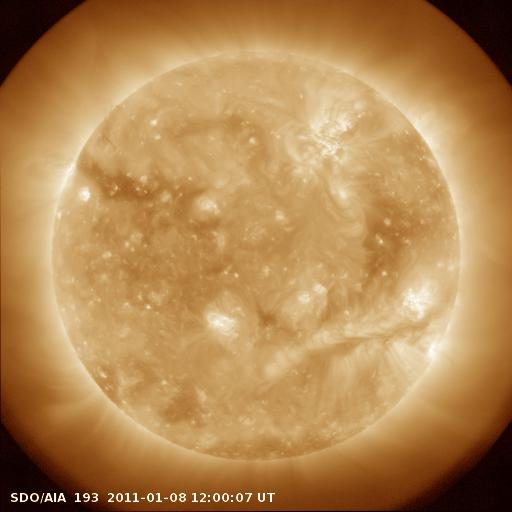coronal_hole: (351, 178, 436, 290), (73, 150, 166, 203)
